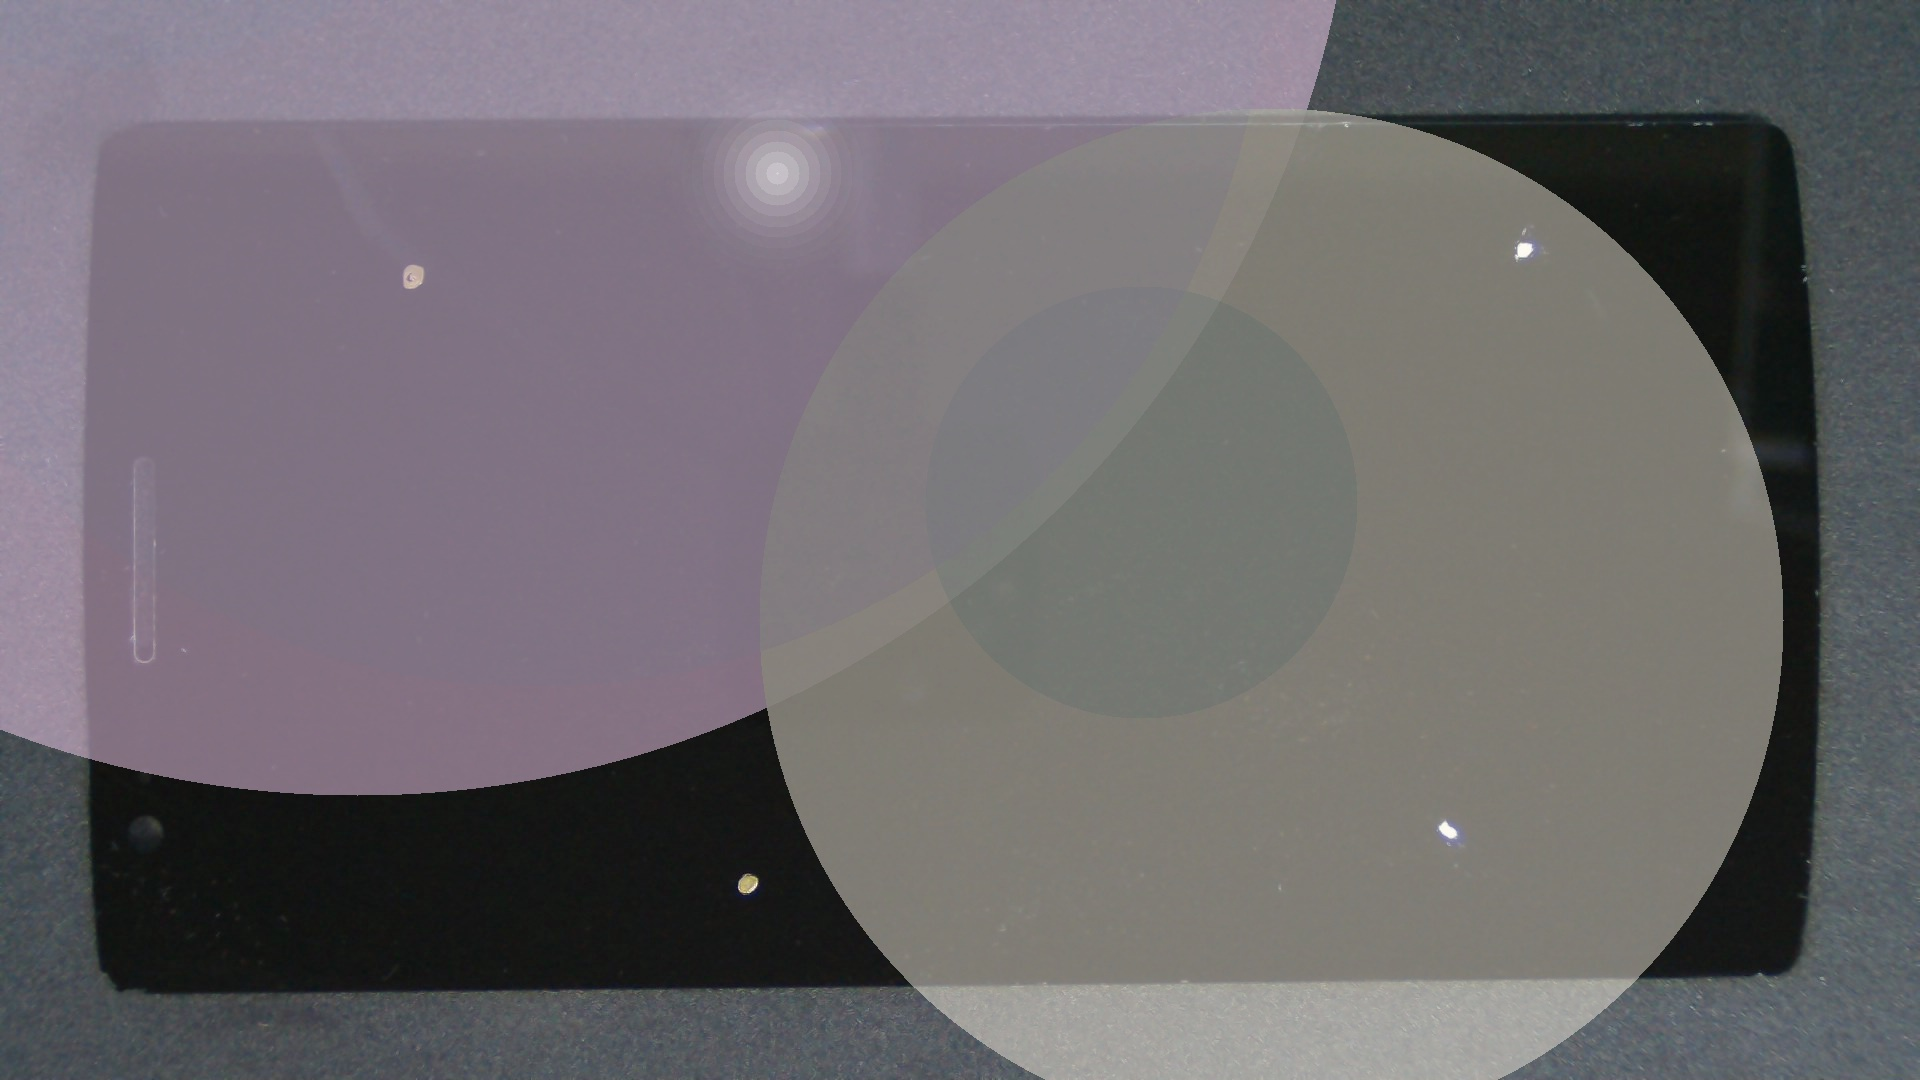oil: (724, 407, 1920, 1080), (724, 419, 1920, 1080), (375, 435, 1124, 1080), (760, 119, 1920, 359), (764, 112, 1920, 340), (203, 132, 608, 397)
